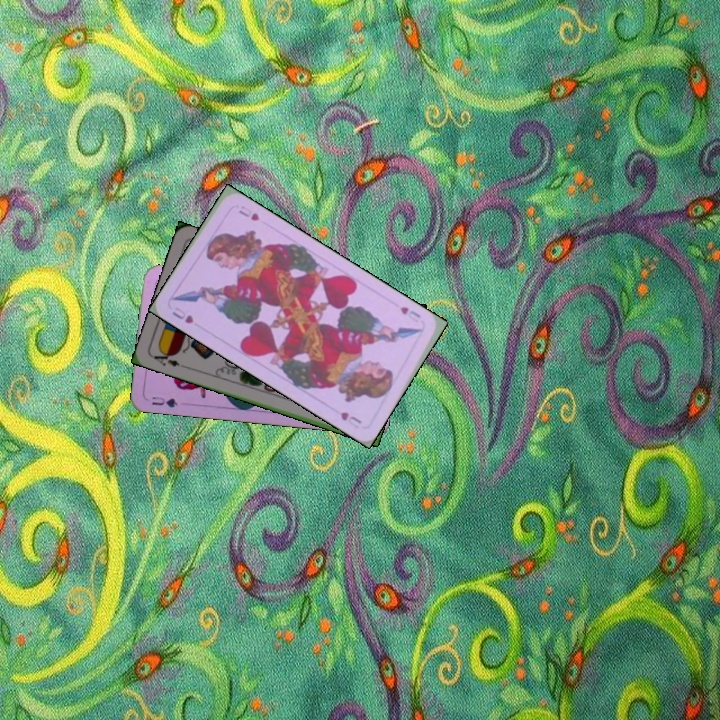EA: (150, 346, 182, 369)
GU: (148, 392, 180, 410)
HU: (396, 302, 426, 332), (168, 303, 196, 326)
